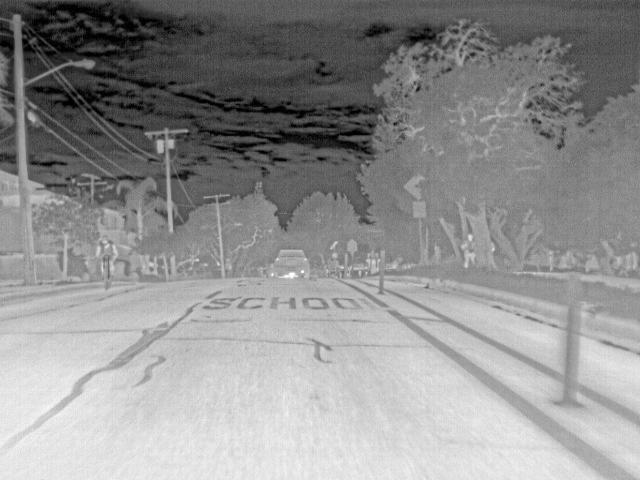car: (271, 248, 310, 280)
person: (93, 234, 118, 282), (460, 233, 474, 269)
